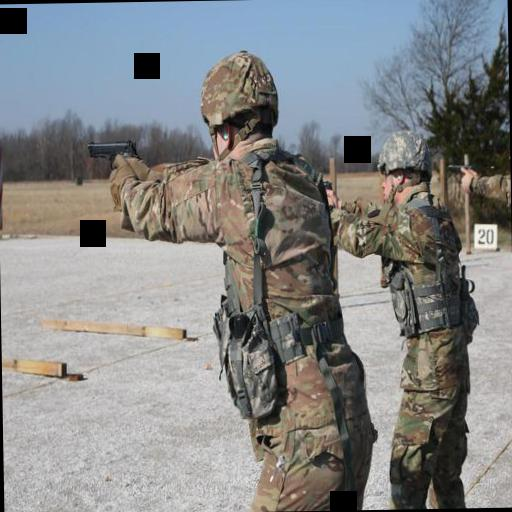Handgun: (82, 134, 138, 175)
